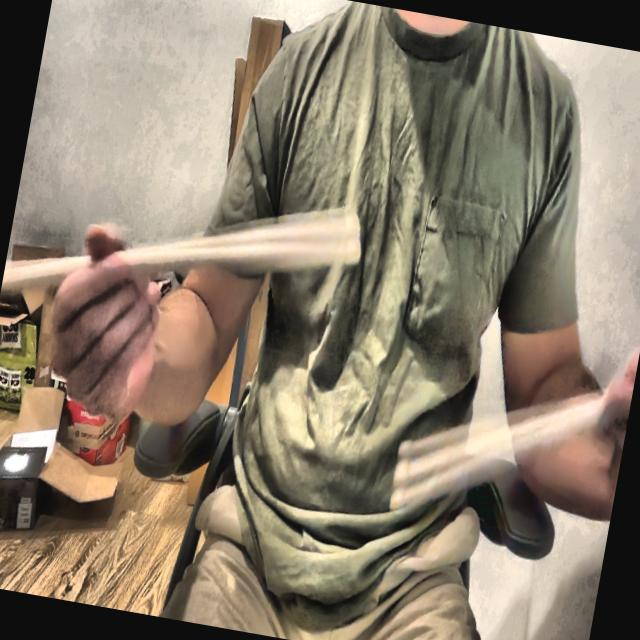Drumstick-Heads: (339, 234, 367, 271), (384, 486, 414, 516)
